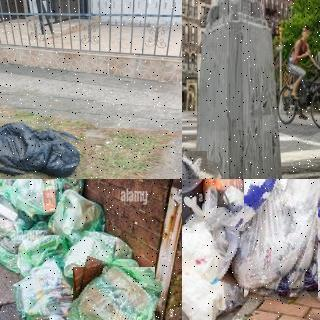Garbage: (230, 179, 320, 300), (182, 189, 254, 320), (68, 261, 160, 320), (0, 118, 88, 179), (11, 259, 83, 320), (61, 225, 136, 281), (45, 187, 107, 242), (14, 229, 73, 276), (0, 189, 36, 252), (6, 179, 59, 216), (201, 179, 257, 197)
